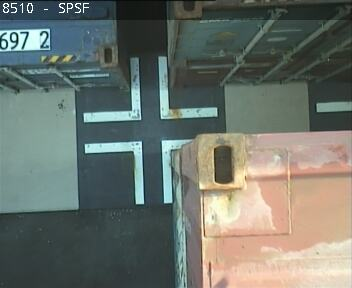groundmarker_1: (85, 137, 224, 203), (84, 57, 218, 122)
